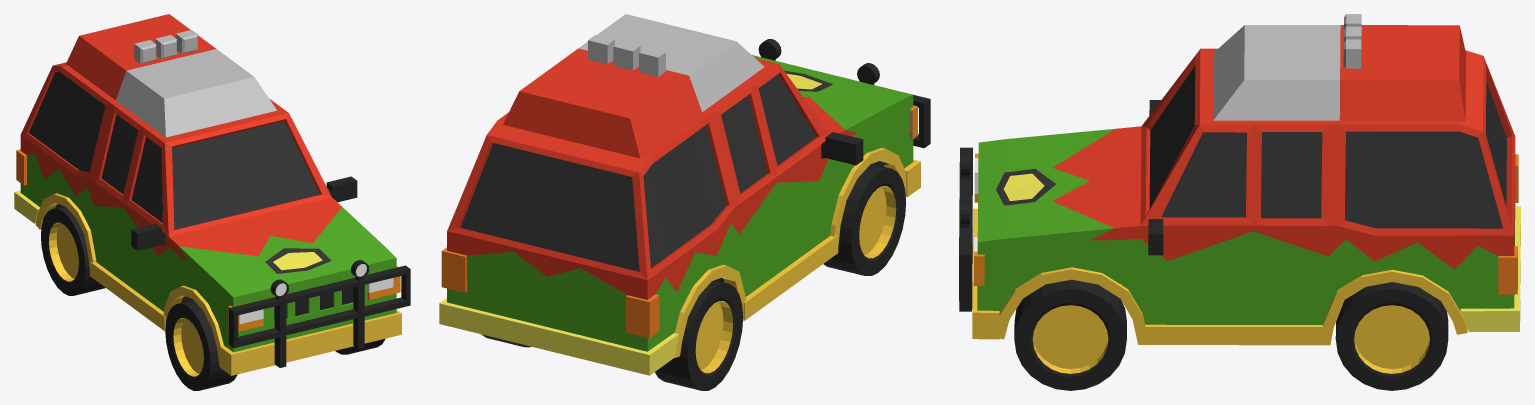
The model's file is JurassicPark_car.fbx.
The picture shows the model from 3 angles, left to right: view 1: azimuth 30°, elevation 25°; view 2: azimuth 150°, elevation 25°; view 3: azimuth 270°, elevation 25°; orthographic projection. The views are drawn at different scales.
Parts seen in each view (by area): view 1: Jeep, WheelFR, WheelBR; view 2: Jeep, WheelFR, WheelBR; view 3: Jeep, WheelFL, WheelBL.
Boxes of the visible parts, x1=… form: Jeep: x1=14, y1=14, x2=410, y2=375; WheelFR: x1=165, y1=300, x2=237, y2=390; WheelBR: x1=41, y1=206, x2=105, y2=295; Jeep: x1=439, y1=14, x2=930, y2=375; WheelFR: x1=823, y1=164, x2=905, y2=275; WheelBR: x1=655, y1=280, x2=743, y2=390; Jeep: x1=959, y1=14, x2=1520, y2=345; WheelFL: x1=1014, y1=279, x2=1126, y2=390; WheelBL: x1=1335, y1=282, x2=1448, y2=390.
Bounding box in the file's own units: 873 × 927 × 1544.
